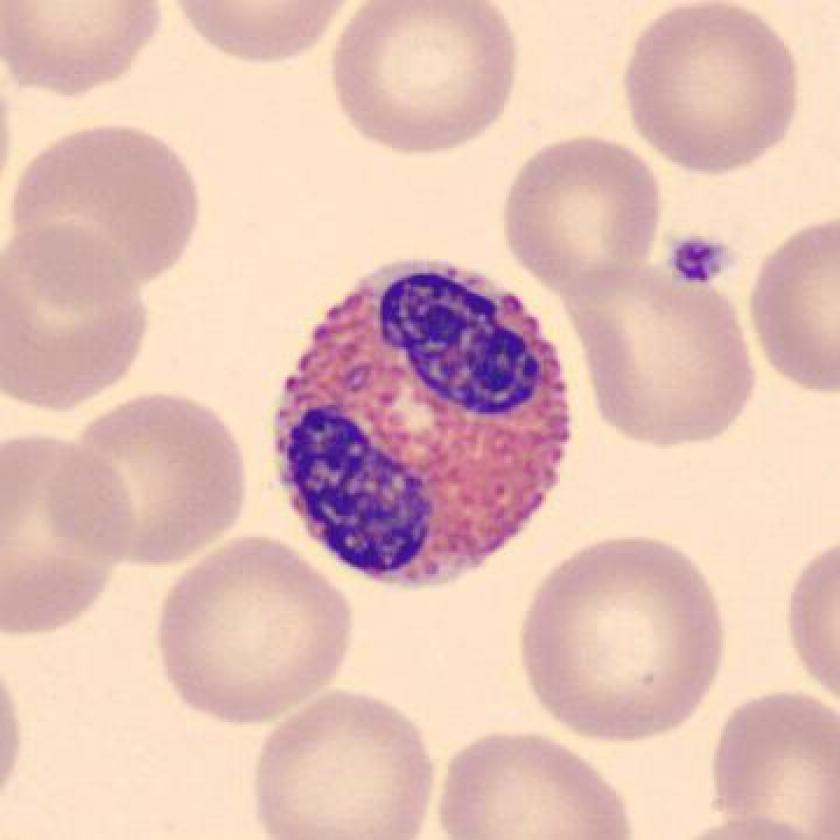eosinophil: (260, 240, 582, 608)
